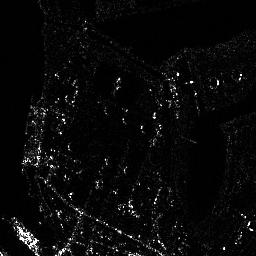l: (9, 215, 41, 248)
